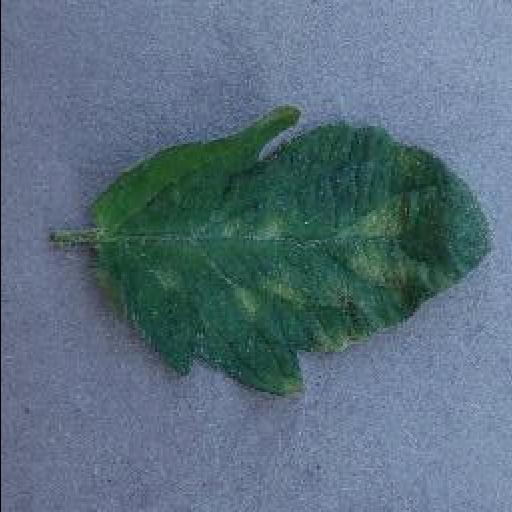disease_tomato: (81, 103, 491, 403)
